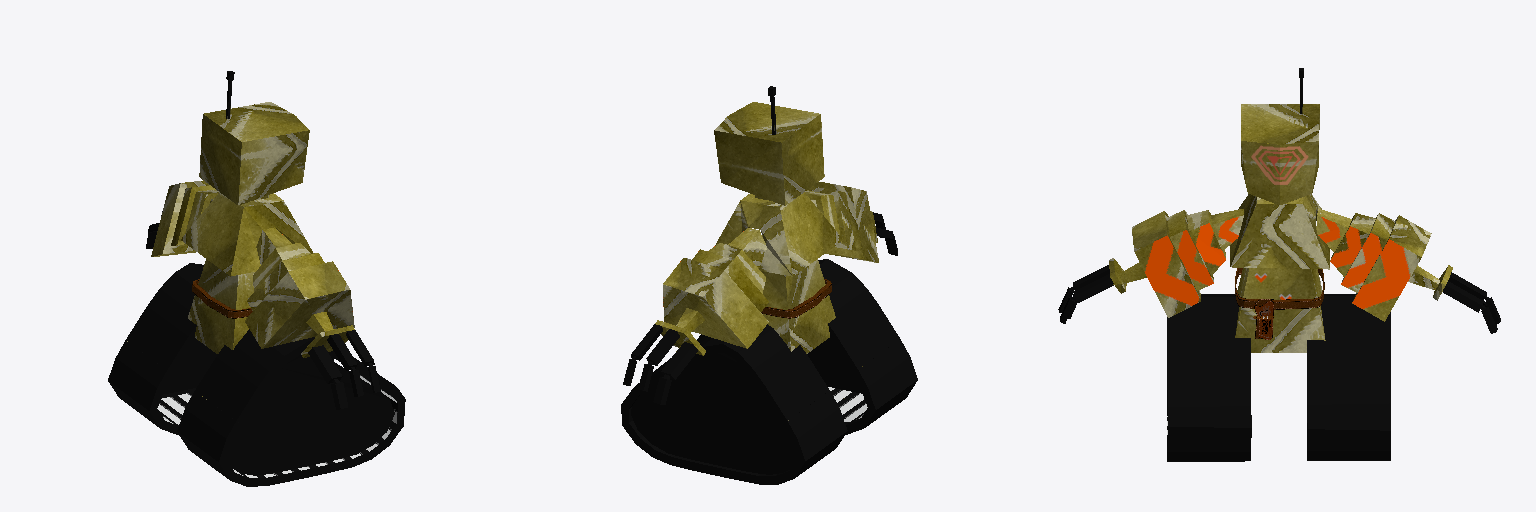
The picture shows the model from 3 angles: view 1: azimuth 30°, elevation 25°; view 2: azimuth 150°, elevation 25°; view 3: azimuth 270°, elevation 25°; orthographic projection.
Parts seen in each view (by area): view 1: POSTAC.001, Plane.001, Plane.004, pas; view 2: POSTAC.001, Plane.001, Plane.004, pas; view 3: POSTAC.001, Plane.001, pas.
Part boxes in pixels (x1,y1,x2,y2): POSTAC.001: (146,71,380,409); Plane.001: (108,263,405,486); Plane.004: (163,339,394,475); pas: (192,279,252,318); POSTAC.001: (623,86,897,404); Plane.001: (621,259,917,484); Plane.004: (631,338,861,474); pas: (761,279,831,318); POSTAC.001: (1058,68,1500,352); Plane.001: (1167,294,1390,461); pas: (1235,268,1324,339).
Size of the model in its own units: 4.65 by 8.53 by 9.52.
3 materials, 2 textured.